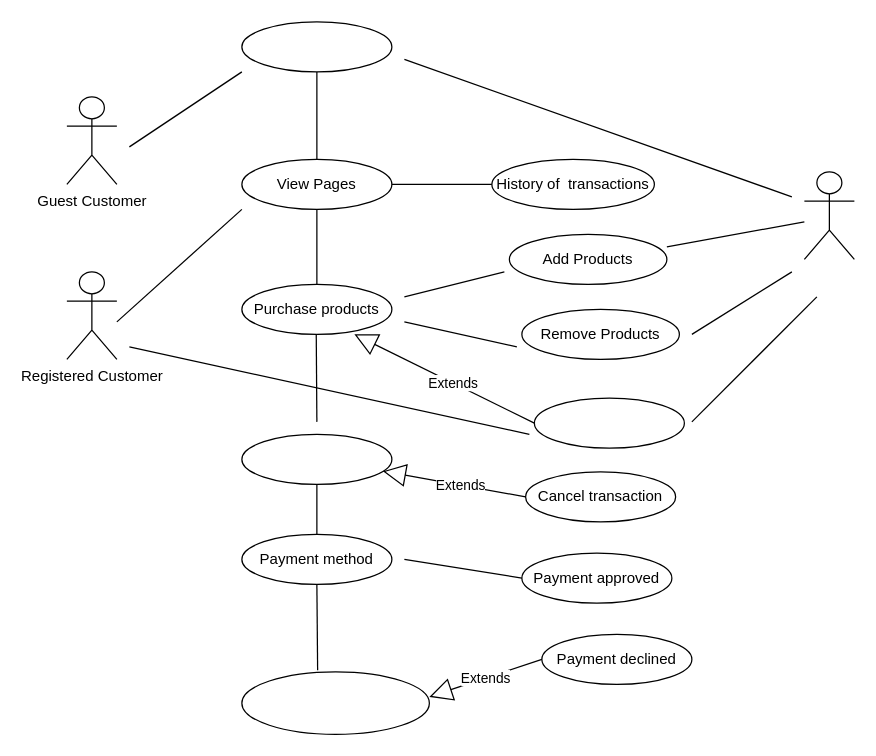
Some shapes in this 876 by 756 pixel diagram are drawn without their labels. The centre of each missing label's shape, as x and y in pixels:
"Admin" belongs at point 828,215.
"Checkout page" belongs at point 316,458.
"Login/Register" belongs at point 316,46.
"Payment approved page/ Thank you" belongs at point 335,702.
"Sales" belongs at point 608,422.
